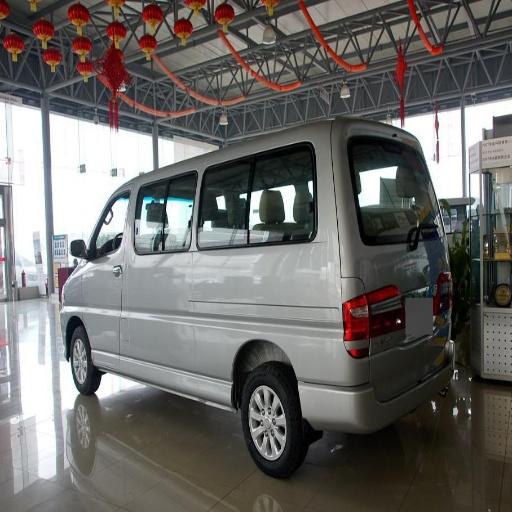back_left_door: (166, 172, 240, 283)
back_left_light: (342, 297, 367, 358)
back_right_door: (215, 152, 343, 241)
trunk: (146, 258, 346, 420), (366, 284, 436, 364)
